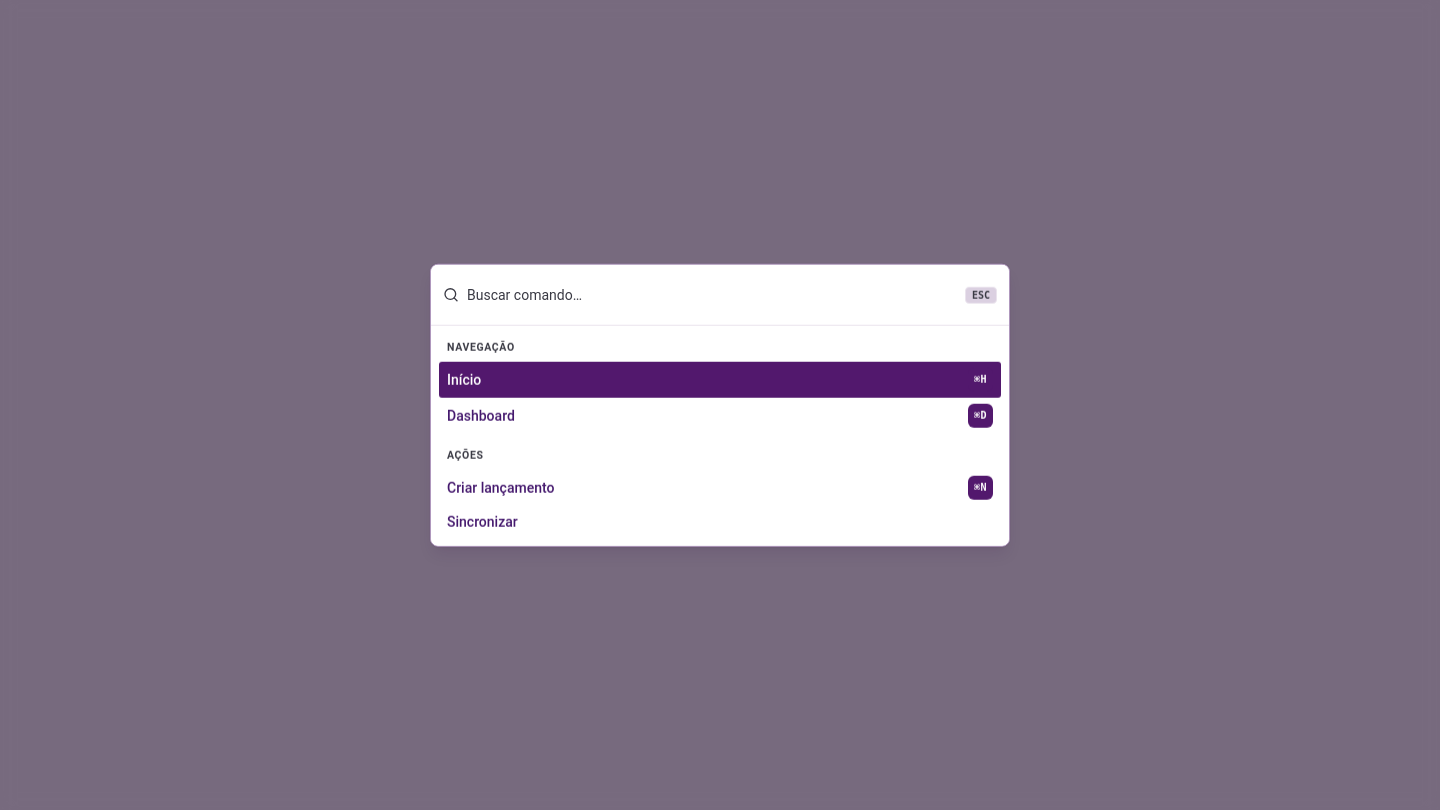
Scenario: CommandPalette — interaction and selection › AC-7: typing in the search input filters entries by label (case-insensitive)
Type "dash" into the dropdown with placeholder "Buscar comando…".
click(712, 295); type("dash")  # box [467,277,957,313]
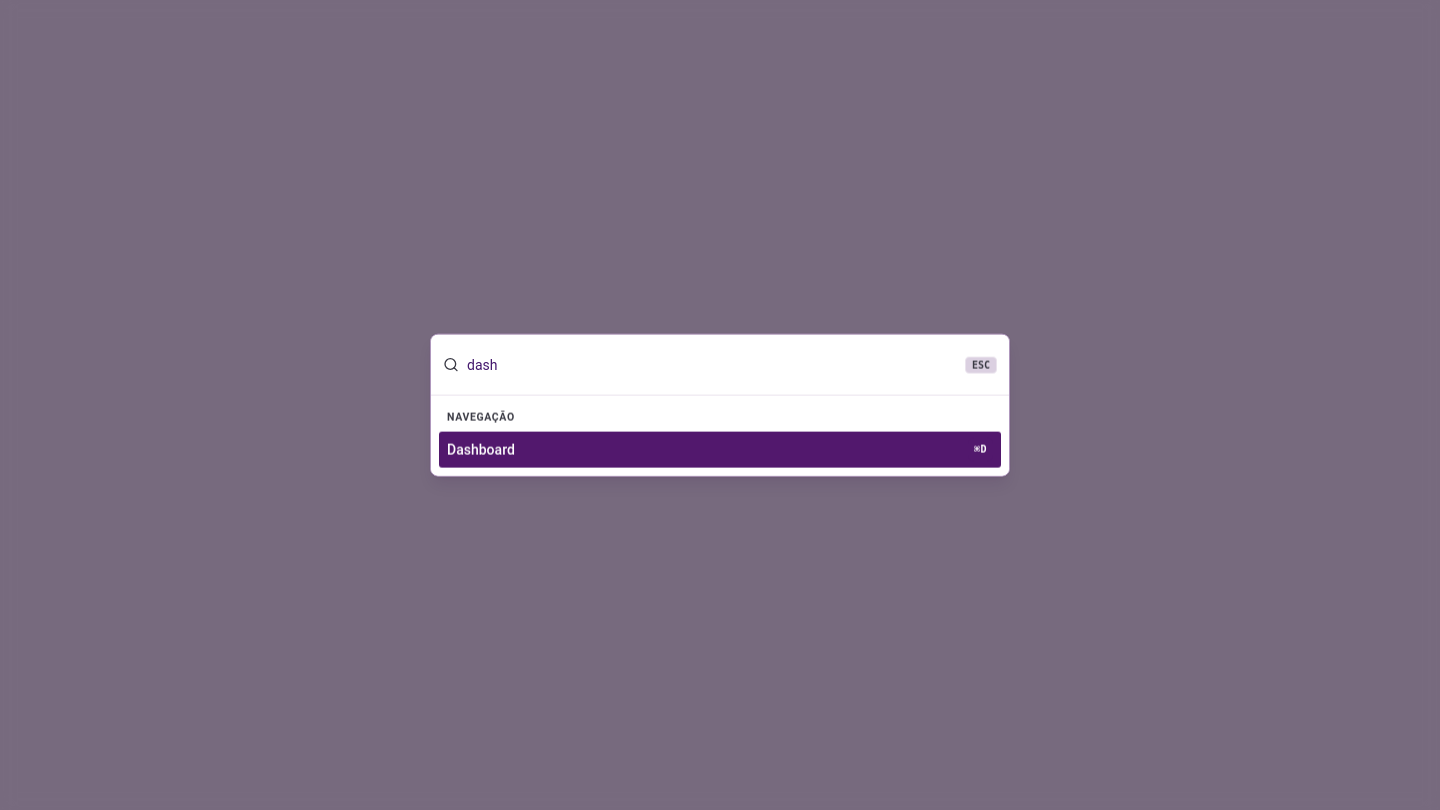
Expected: the text "Dashboard" is shown, [447,441,515,457]
Expected: the option "Início" is gone
